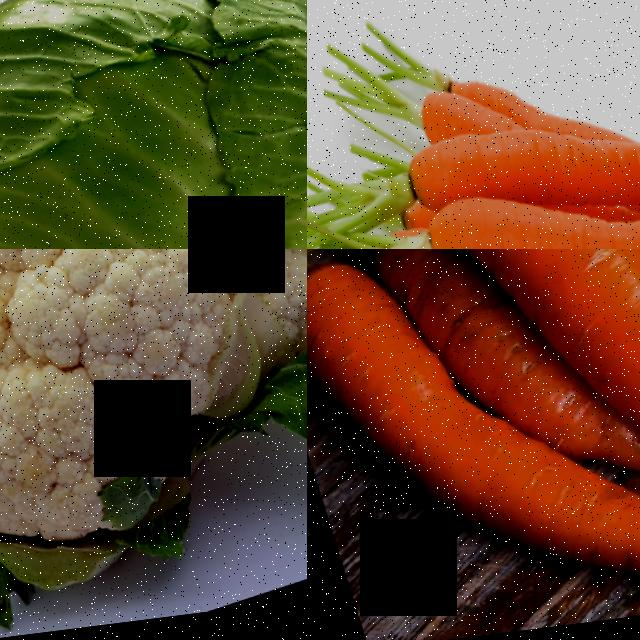cabbage: (0, 0, 307, 249)
carrot: (335, 45, 640, 246), (307, 249, 460, 591), (421, 249, 640, 425), (382, 155, 640, 249)
cauliflower: (0, 249, 307, 640)
